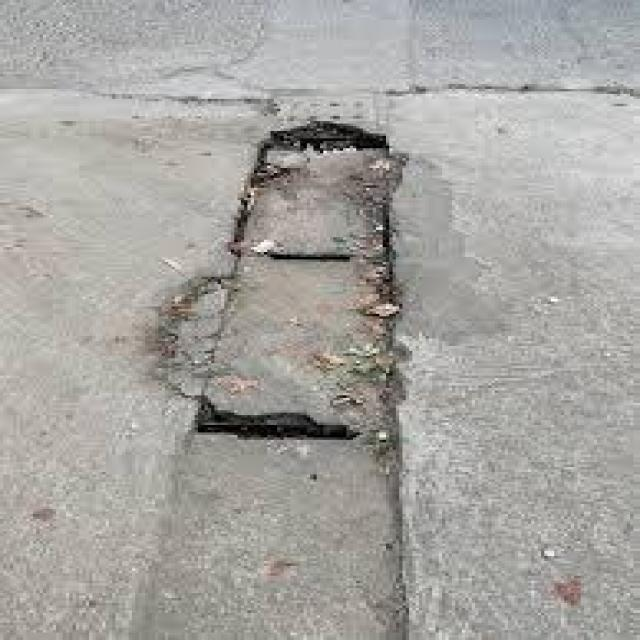curb: (167, 442, 420, 638), (226, 265, 407, 425), (251, 145, 389, 254)
